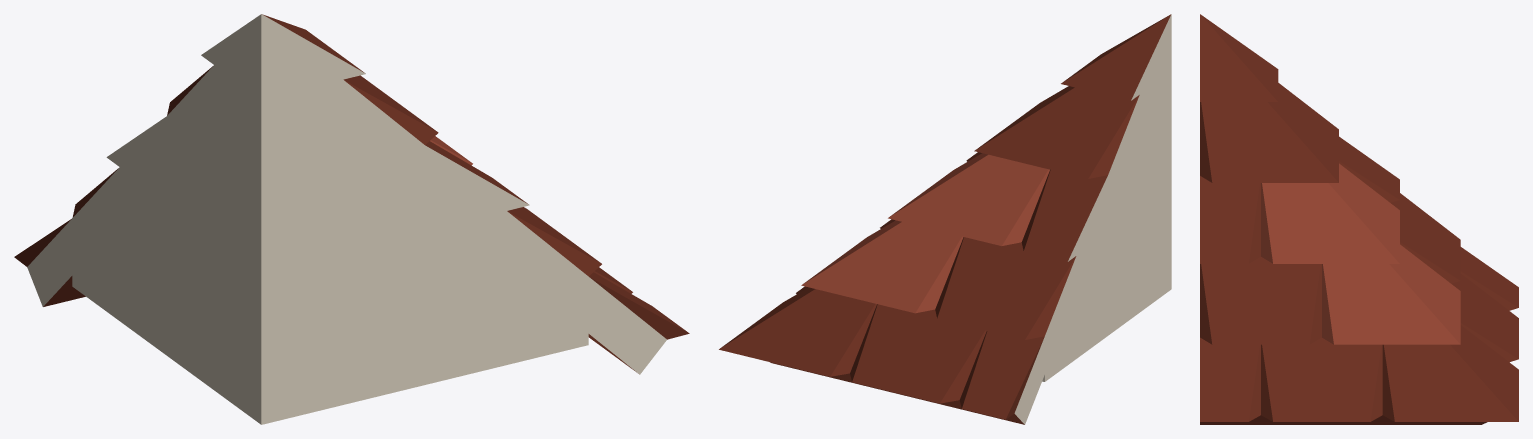
Rendered from Roof_Straight_Corner_Outer_Eave.obj.
3 views of the same model, side by side, from view 1: azimuth 30°, elevation 25°; view 2: azimuth 150°, elevation 25°; view 3: azimuth 270°, elevation 25° (orthographic). The views are drawn at different scales.
Visible parts, largest first — view 1: object1; view 2: object1; view 3: object1.
Part boxes in pixels (x1,y1,x2,y2): object1: (14, 14, 689, 424); object1: (719, 14, 1171, 424); object1: (1200, 14, 1518, 424).
Bounding box in the file's own units: 1.31 × 1.32 × 1.31.
